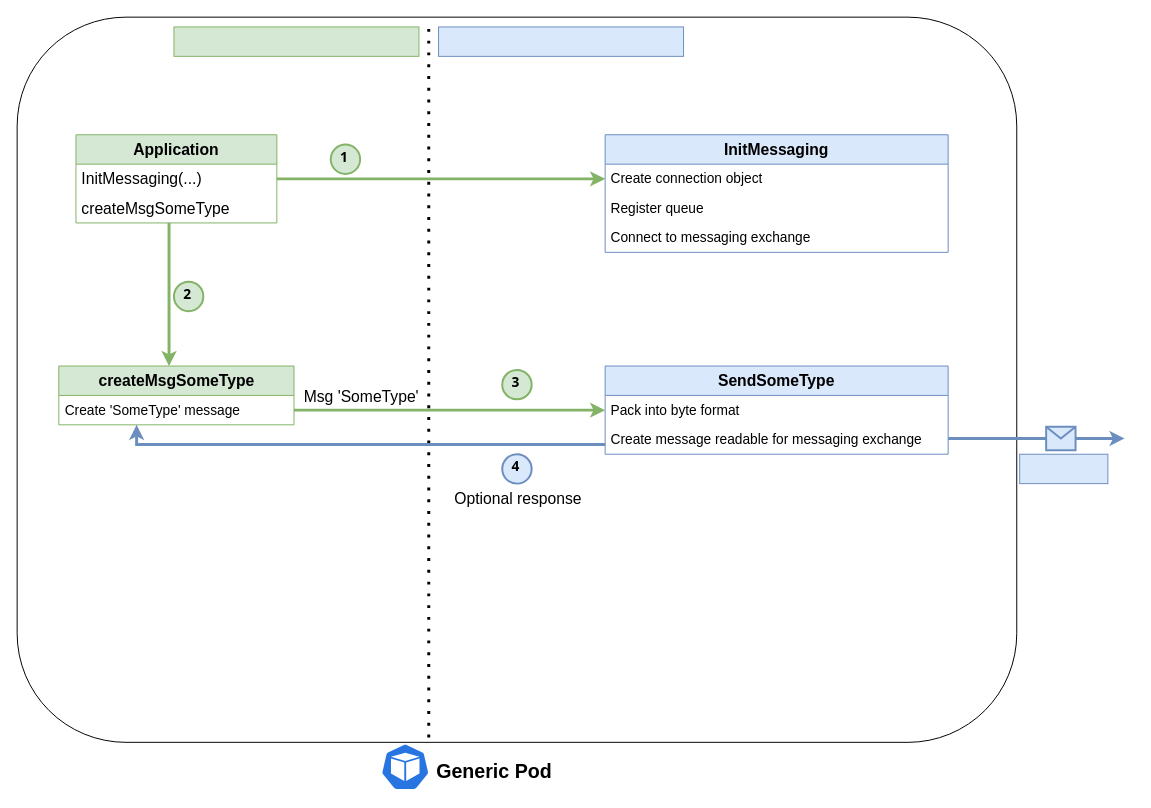
Image size: 1151x808. Some labels were removed from this diagram. The shapes that lost their labels are listed below. From the top down, each one's centre as x and y in pixels, then its label:
At [296,41]: "Application container".
At [561,41]: "Sidecar container".
At [1063,468]: "To message broker".
